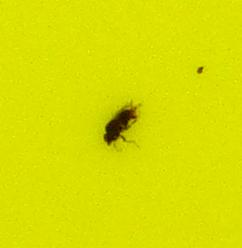Brachycera: (100, 100, 142, 148)
